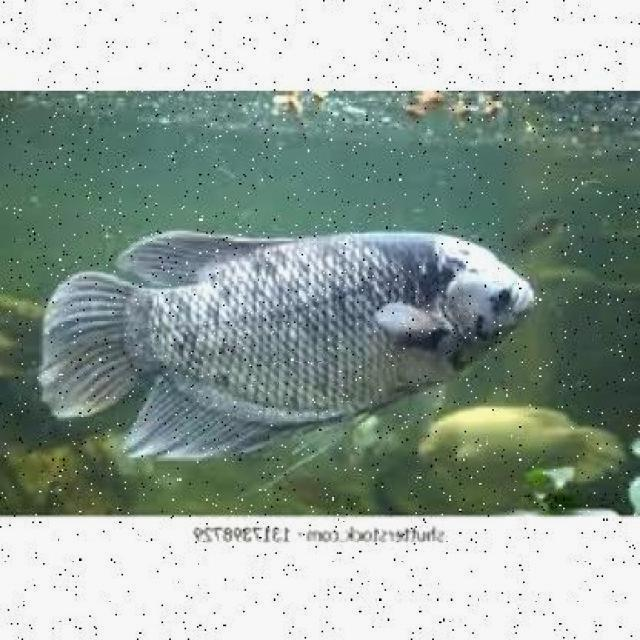gurame: (41, 229, 532, 457)
